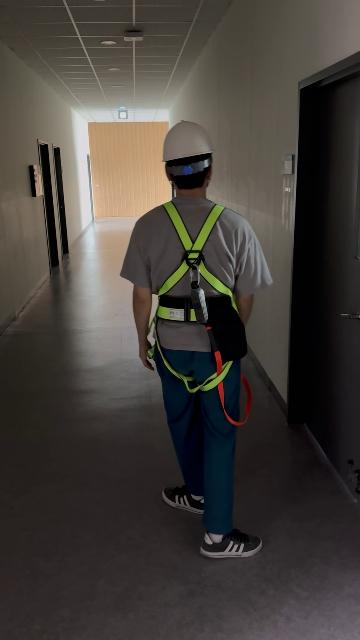helmet_worn: (160, 120, 215, 162)
shoe_not_worn: (200, 527, 262, 558), (162, 484, 205, 515)
vest_worn: (146, 204, 248, 393)
